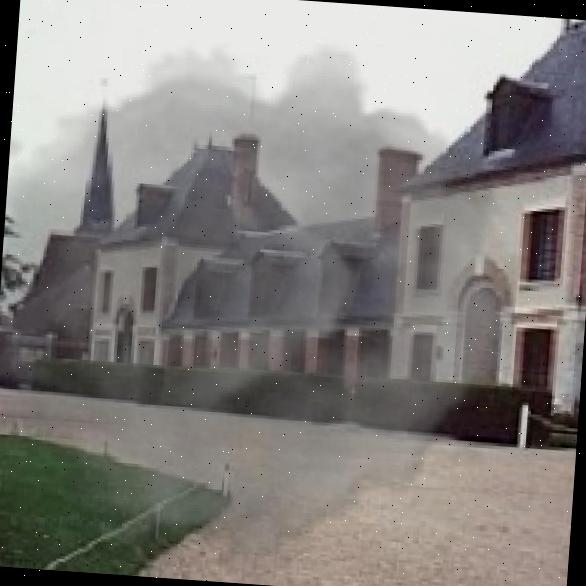smoke: (0, 23, 532, 586)
